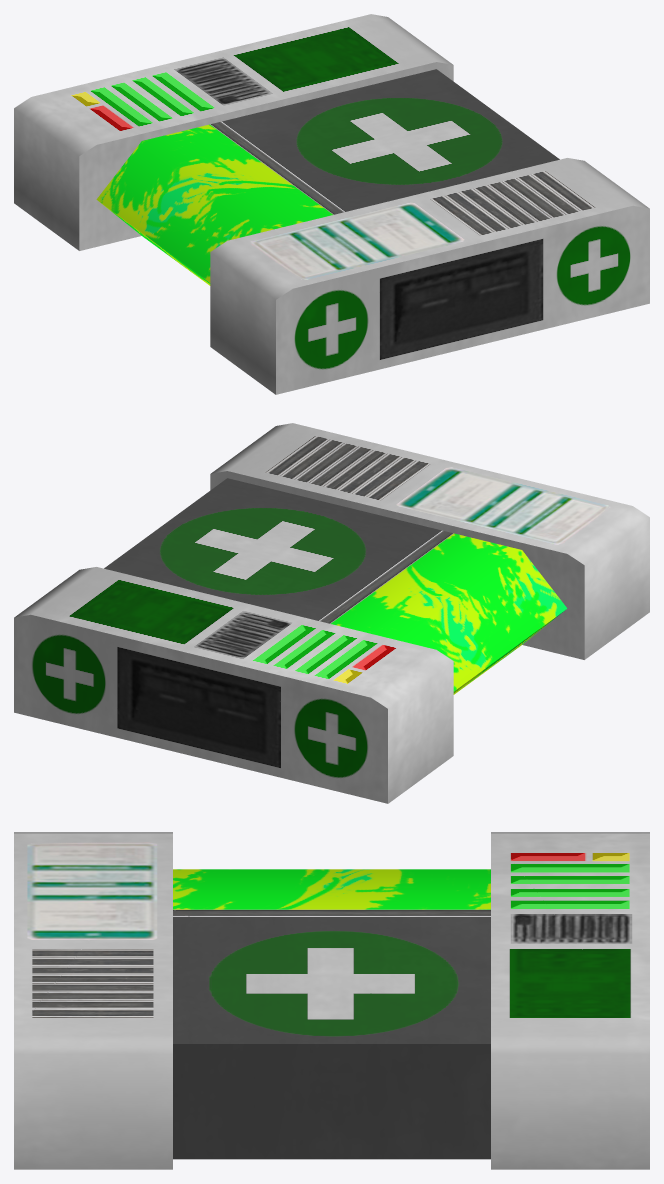
Rendered from Medickit.fbx.
3 views of the same model, one above another, from view 1: azimuth 30°, elevation 25°; view 2: azimuth 150°, elevation 25°; view 3: azimuth 270°, elevation 25° (orthographic). The views are drawn at different scales.
Parts seen in each view (by area): view 1: Medickit; view 2: Medickit; view 3: Medickit.
Boxes of the visible parts, left/top/right/bottom form: Medickit: left=14, top=14, right=649, bottom=394; Medickit: left=14, top=423, right=649, bottom=803; Medickit: left=14, top=832, right=649, bottom=1169.
Size of the model in its own units: 66 by 17.2 by 80.
